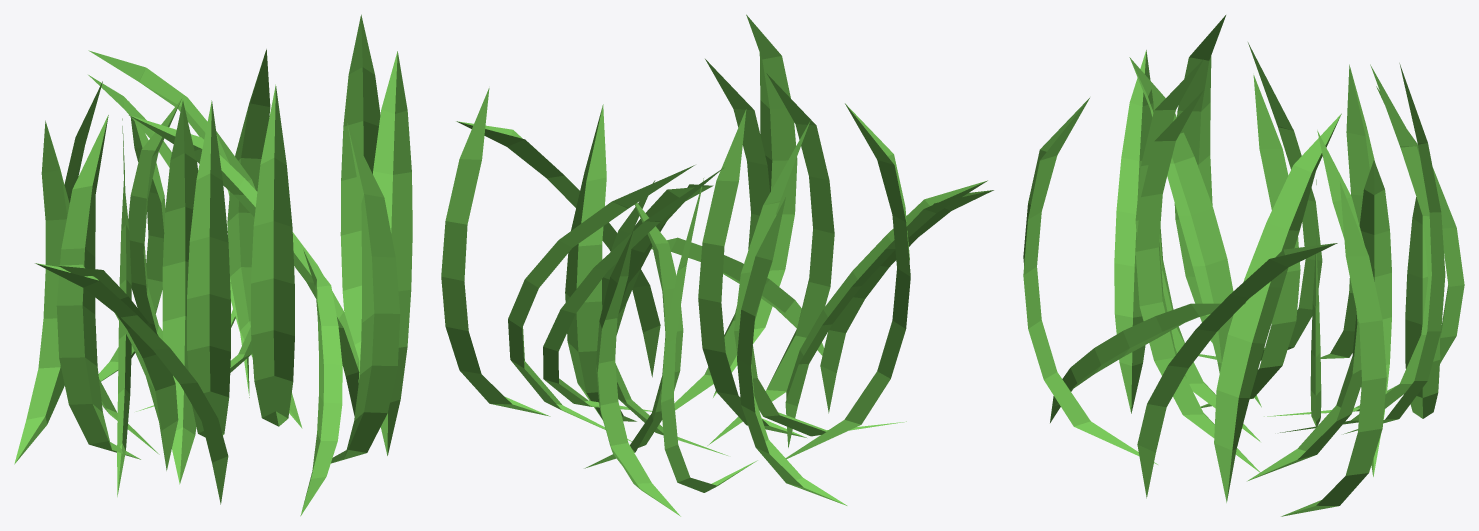
The model's file is grass.fbx.
3 renders of one model, left to right at view 1: azimuth 30°, elevation 25°; view 2: azimuth 150°, elevation 25°; view 3: azimuth 270°, elevation 25°, orthographic. The views are drawn at different scales.
Visible parts, largest first — view 1: Plane.016; view 2: Plane.016; view 3: Plane.016.
Boxes of the visible parts, x1,y1,x2,y2 form: Plane.016: (14, 14, 412, 516); Plane.016: (441, 14, 993, 516); Plane.016: (1023, 15, 1464, 516).
Size of the model in its own units: 151 by 117 by 127.
